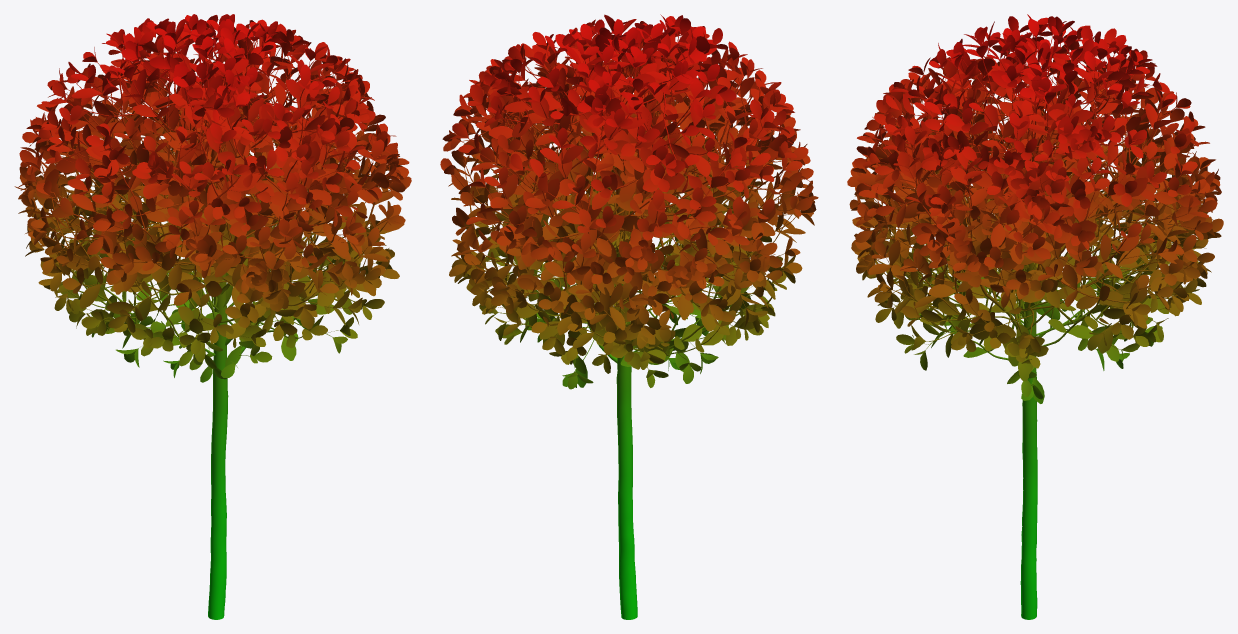
File: Var7_LOD0.fbx
3 renders of one model, left to right at view 1: azimuth 30°, elevation 25°; view 2: azimuth 150°, elevation 25°; view 3: azimuth 270°, elevation 25°, orthographic. The views are drawn at different scales.
Parts seen in each view (by area): view 1: _e8v4_Var7_LOD0; view 2: _e8v4_Var7_LOD0; view 3: _e8v4_Var7_LOD0.
Boxes of the visible parts, left/top/right/bottom form: _e8v4_Var7_LOD0: left=14, top=14, right=411, bottom=619; _e8v4_Var7_LOD0: left=440, top=14, right=818, bottom=619; _e8v4_Var7_LOD0: left=847, top=14, right=1223, bottom=619.
Size of the model in its own units: 46.72 by 77.75 by 45.93.
